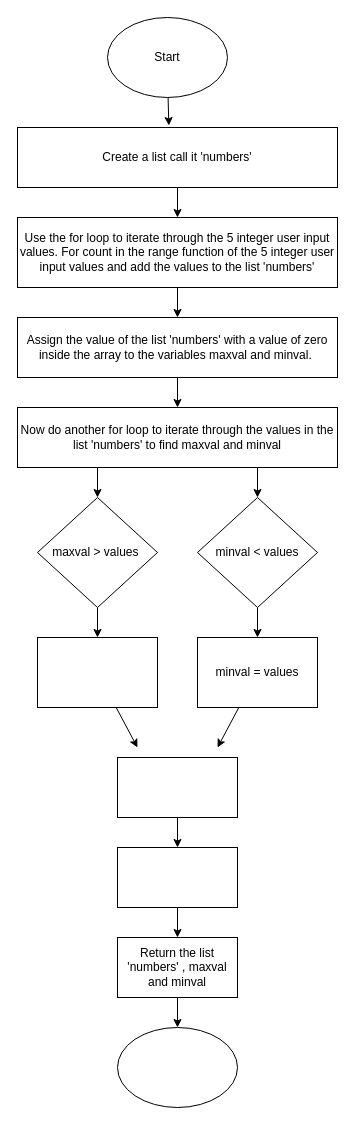
The diagram is 355 pixels wide and 1125 high, and some of its shapes have lost their labels. The shapes that lost their labels are listed below. From the top down, each one's centre as x and y in pixels, then its label:
point (97, 672): maxval = values
point (177, 787): Print list 'numbers'
point (177, 877): Print maxval and minval
point (177, 1067): End
